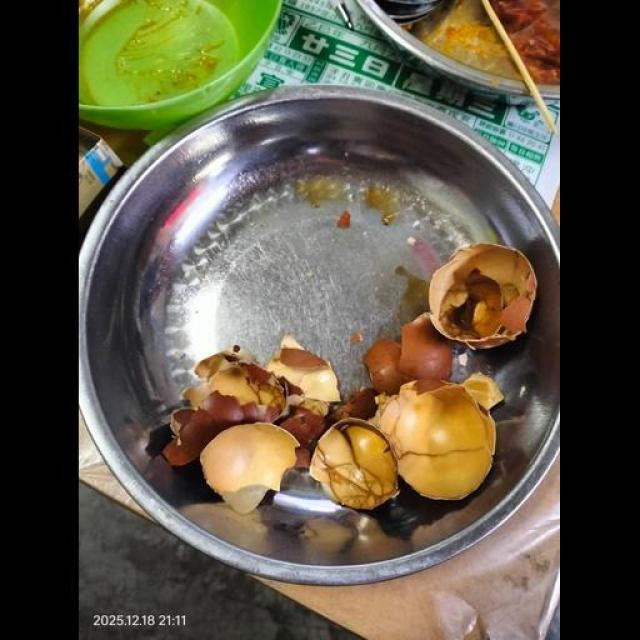organic: (160, 153, 571, 601), (79, 0, 282, 129), (80, 0, 238, 106)
